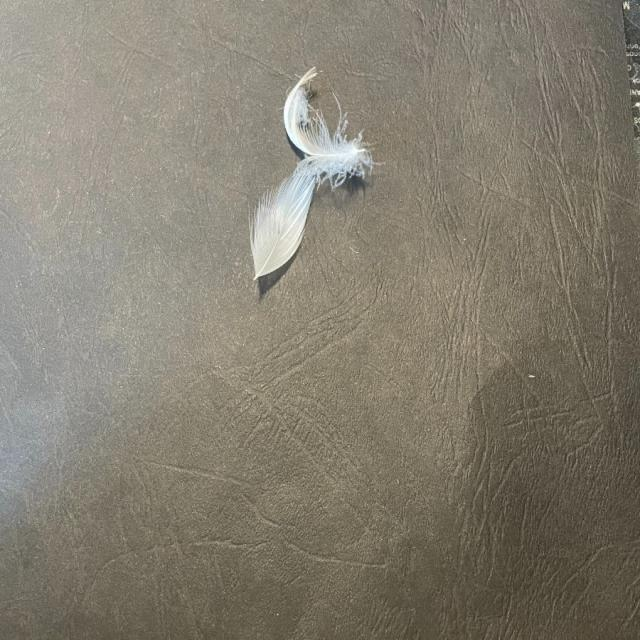feather: (280, 67, 378, 183), (246, 165, 321, 282)
